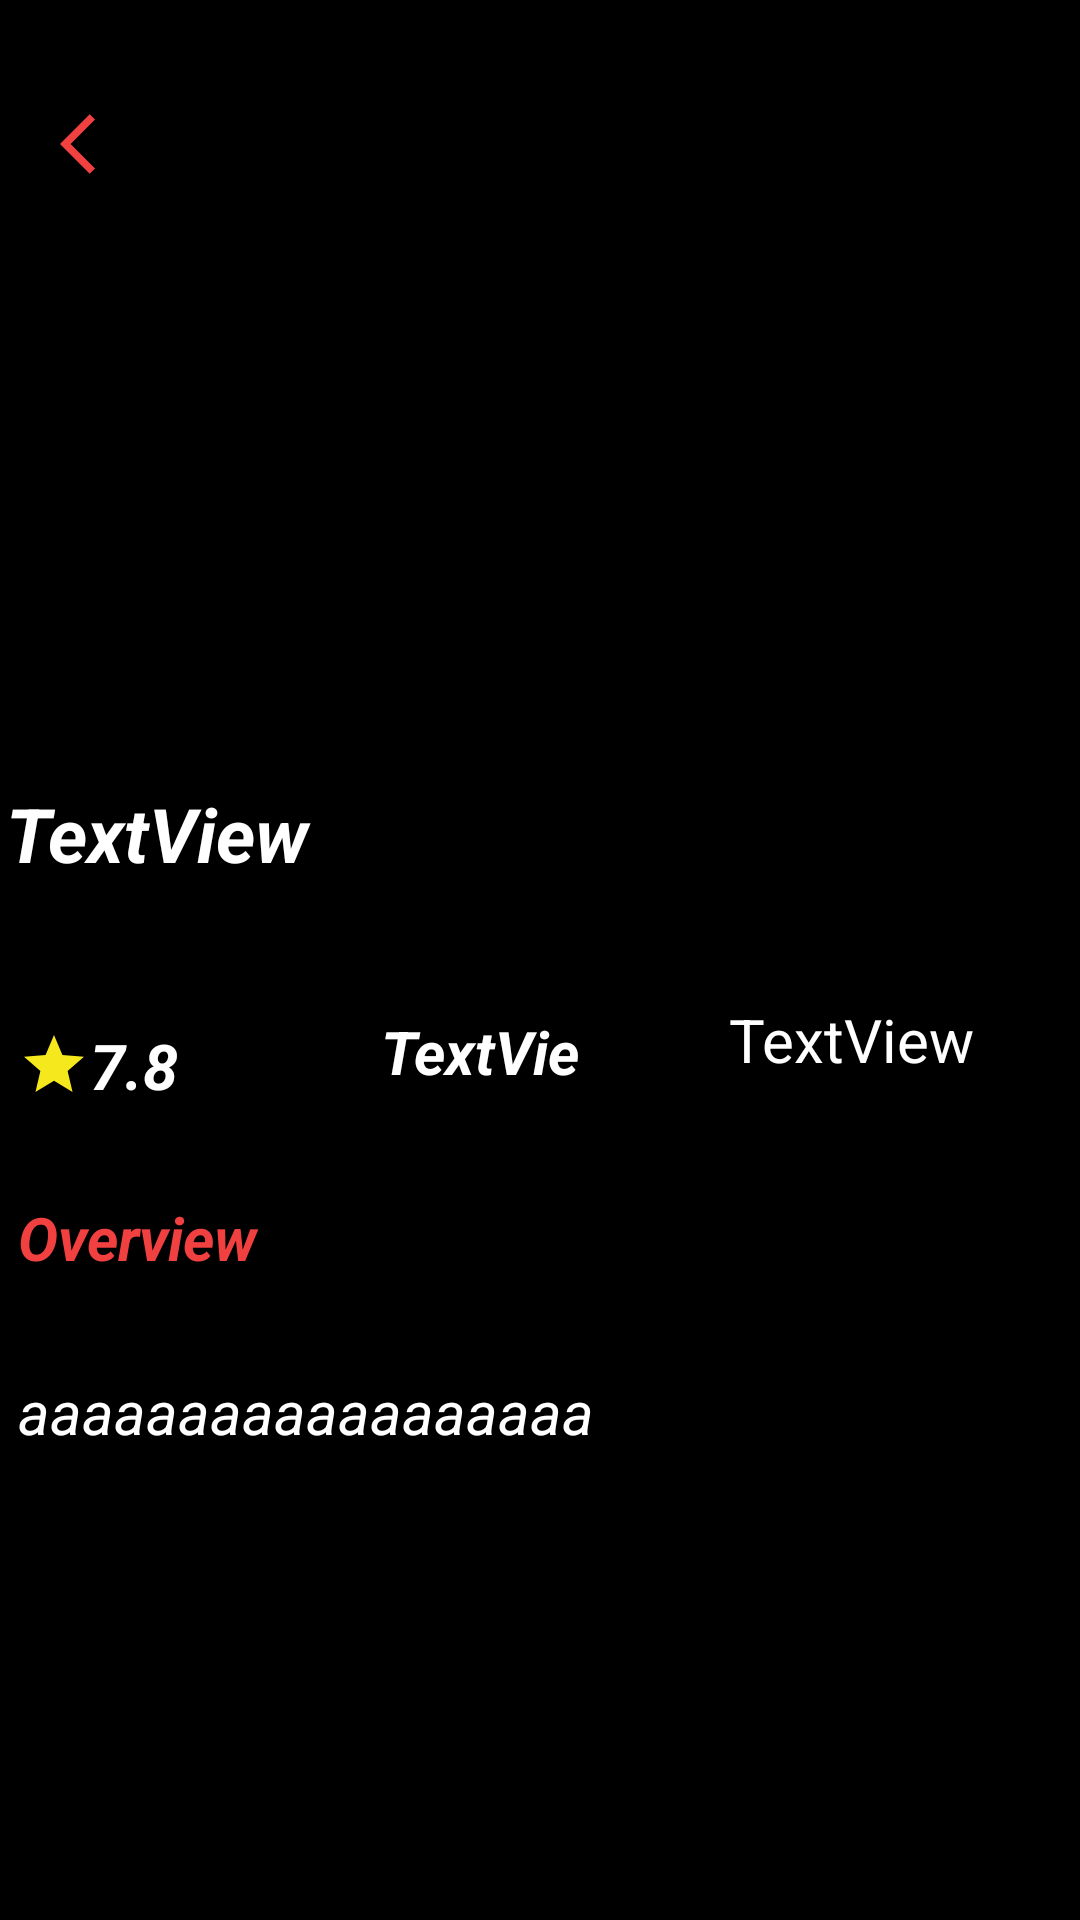

Locate icon controls on the screen. Image size 1080px×1920px, boxes as bbox=(x1, y1, x2, y2).
arrow back: bbox=(60, 114, 95, 174)
star: bbox=(24, 1035, 84, 1092)
